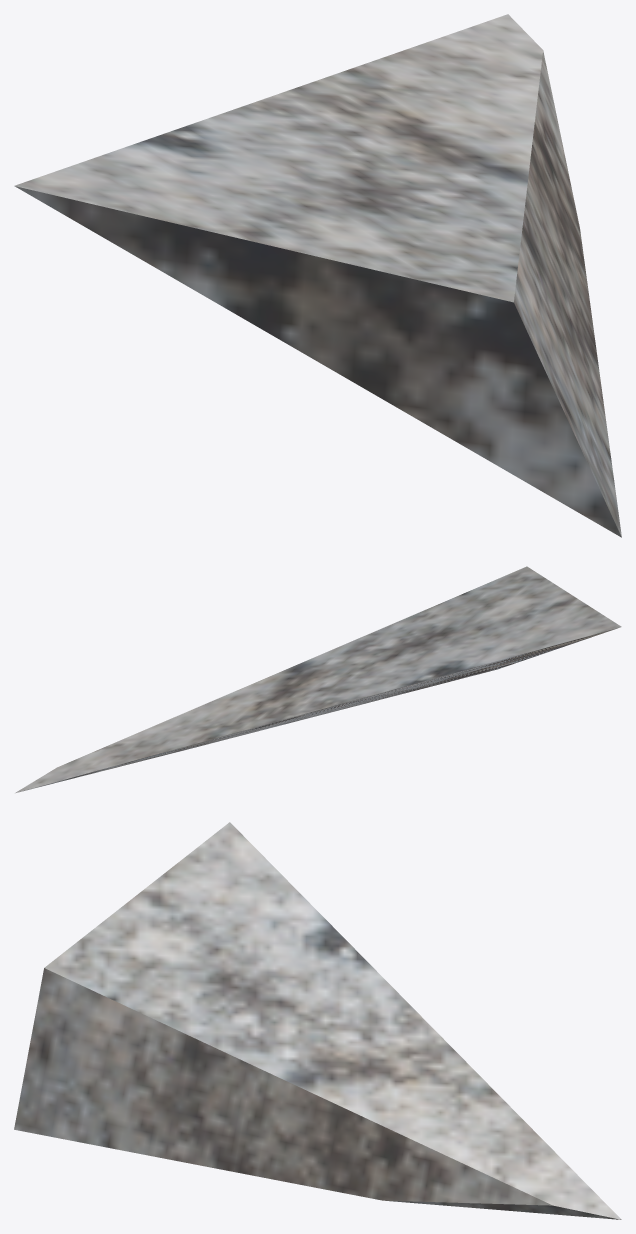
The model's file is Asteroid_Large_001_02_002_03_008.fbx.
3 views of the same model, one above another, from view 1: azimuth 30°, elevation 25°; view 2: azimuth 150°, elevation 25°; view 3: azimuth 270°, elevation 25° (orthographic). The views are drawn at different scales.
Visible parts, largest first — view 1: Asteroid_Large_001_02_002_03_008; view 2: Asteroid_Large_001_02_002_03_008; view 3: Asteroid_Large_001_02_002_03_008.
Boxes of the visible parts, x1,y1,x2,y2 form: Asteroid_Large_001_02_002_03_008: (14,14,621,537); Asteroid_Large_001_02_002_03_008: (15,566,621,793); Asteroid_Large_001_02_002_03_008: (14,822,621,1219).
Size of the model in its own units: 4.28 by 1.58 by 4.64.
